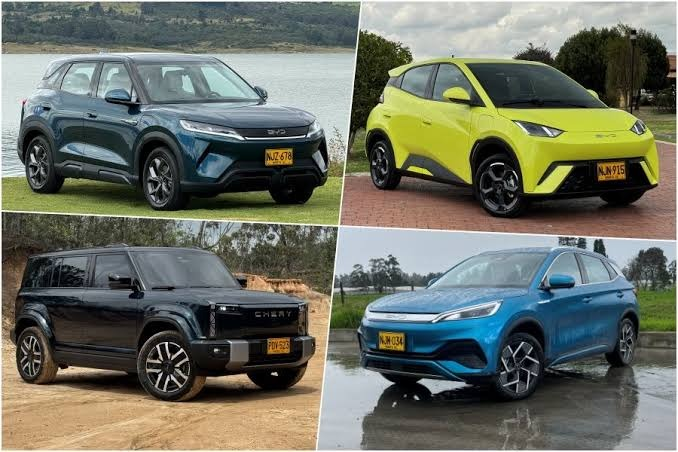car: (10, 47, 327, 206), (368, 54, 676, 211), (10, 244, 314, 395), (363, 238, 640, 390)
